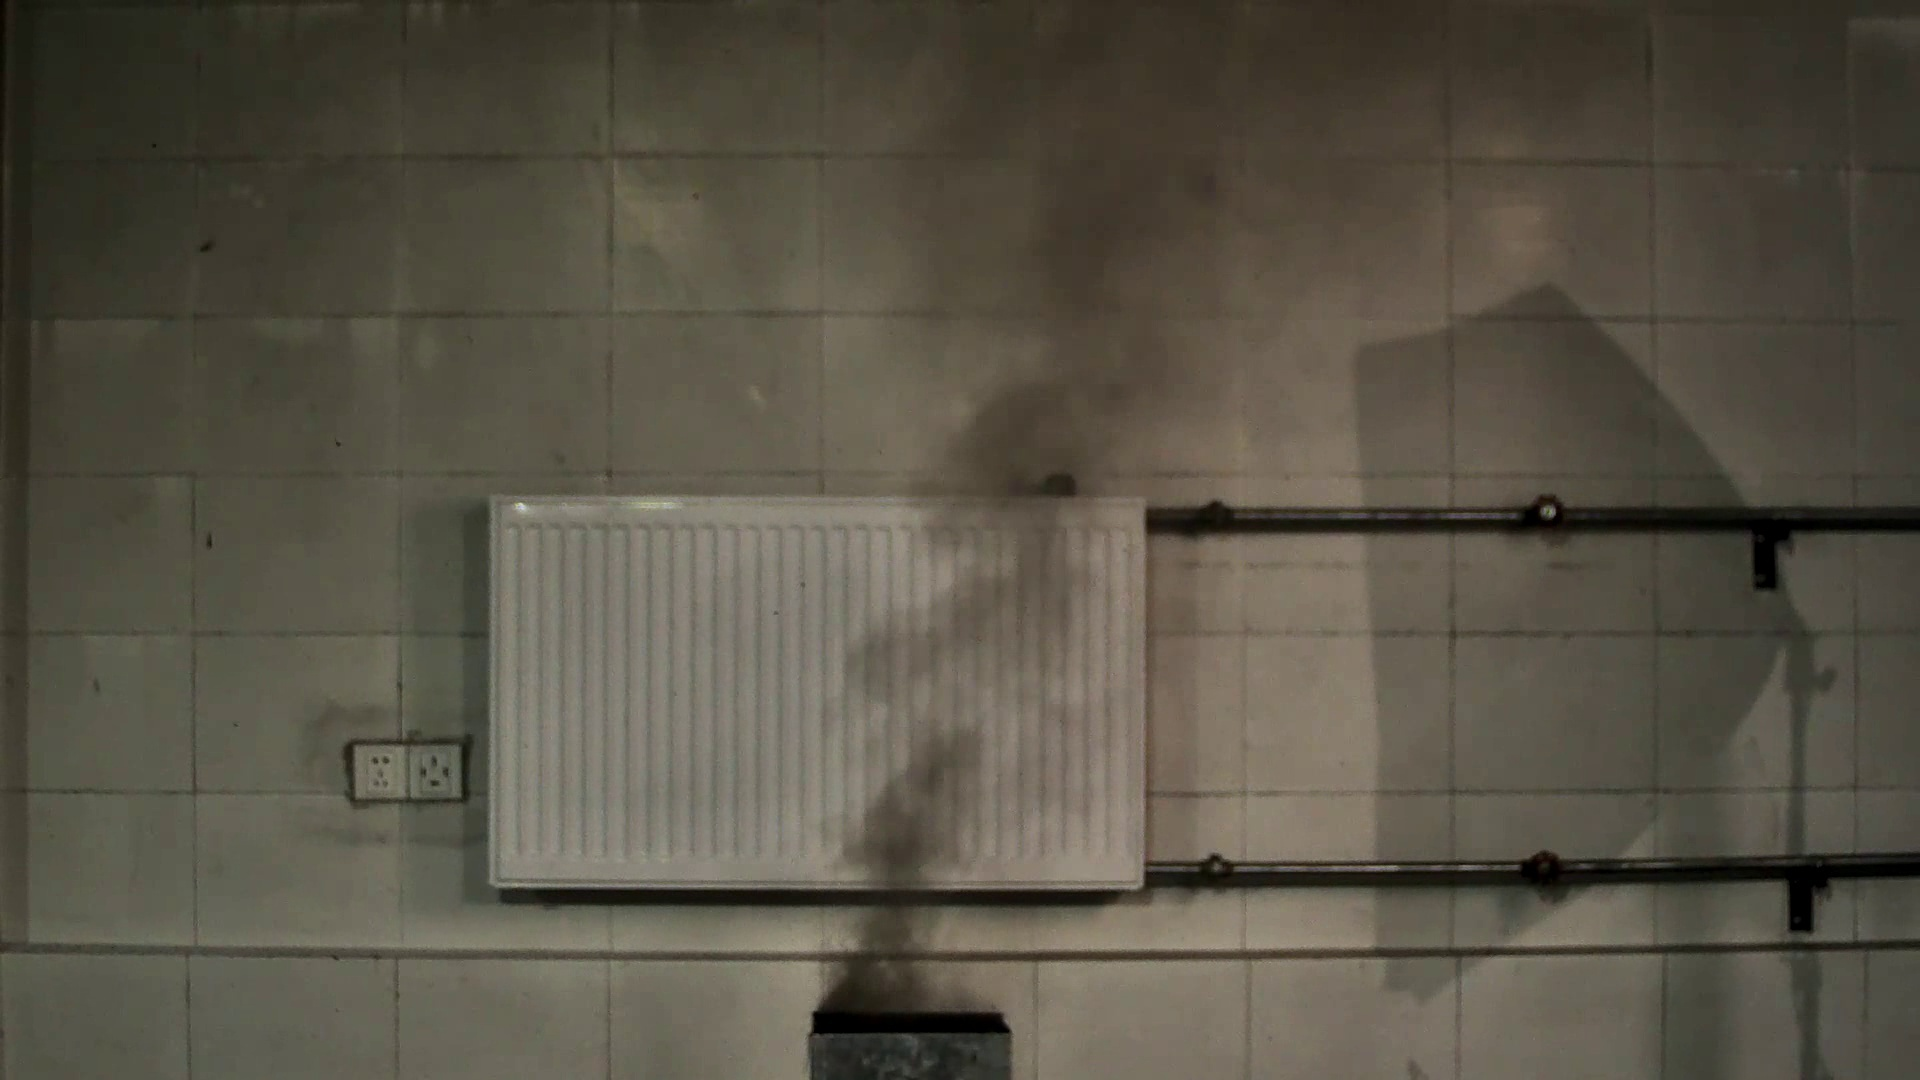smoke: (831, 82, 1329, 971)
